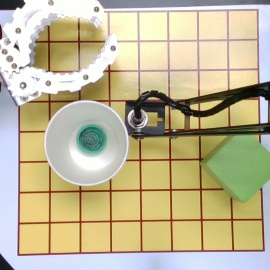cup_green: (44, 100, 129, 187)
